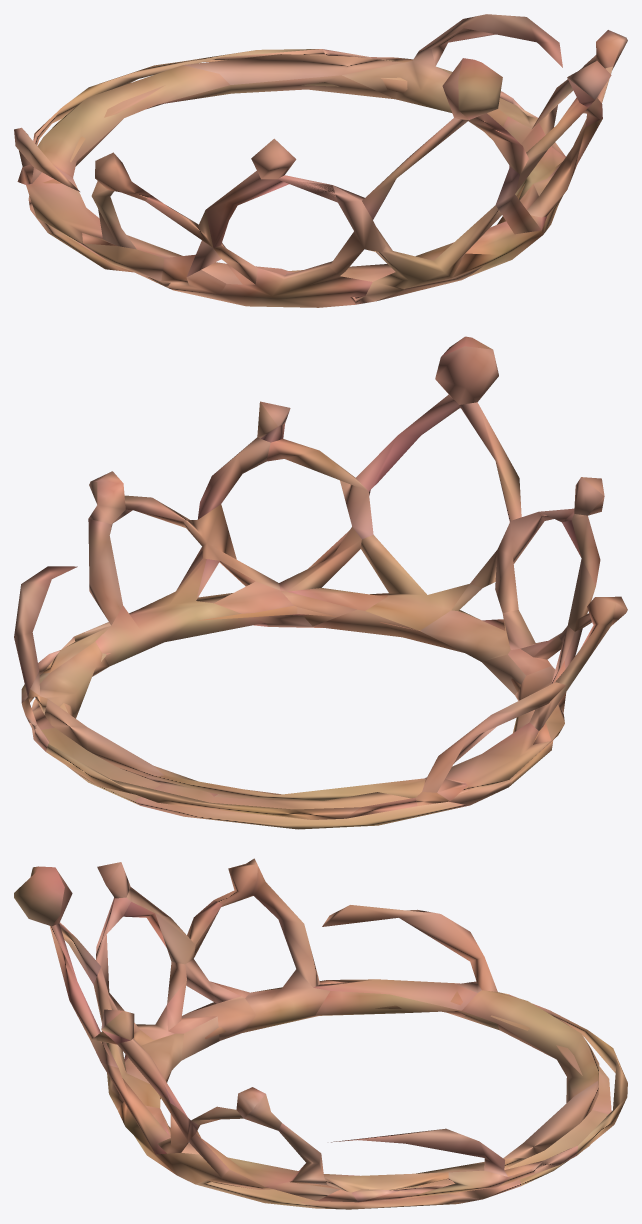
The picture shows the model from 3 angles, top to bottom: view 1: azimuth 30°, elevation 25°; view 2: azimuth 150°, elevation 25°; view 3: azimuth 270°, elevation 25°; orthographic projection. The views are drawn at different scales.
Visible parts, largest first — view 1: Pink-Tiara-21; view 2: Pink-Tiara-21; view 3: Pink-Tiara-21.
Boxes of the visible parts, <box> form: Pink-Tiara-21: <box>14,14,627,307</box>; Pink-Tiara-21: <box>14,336,627,829</box>; Pink-Tiara-21: <box>14,858,627,1209</box>.
Bounding box in the file's own units: 0.2567 × 0.1209 × 0.2731.
1 material, 1 textured.
